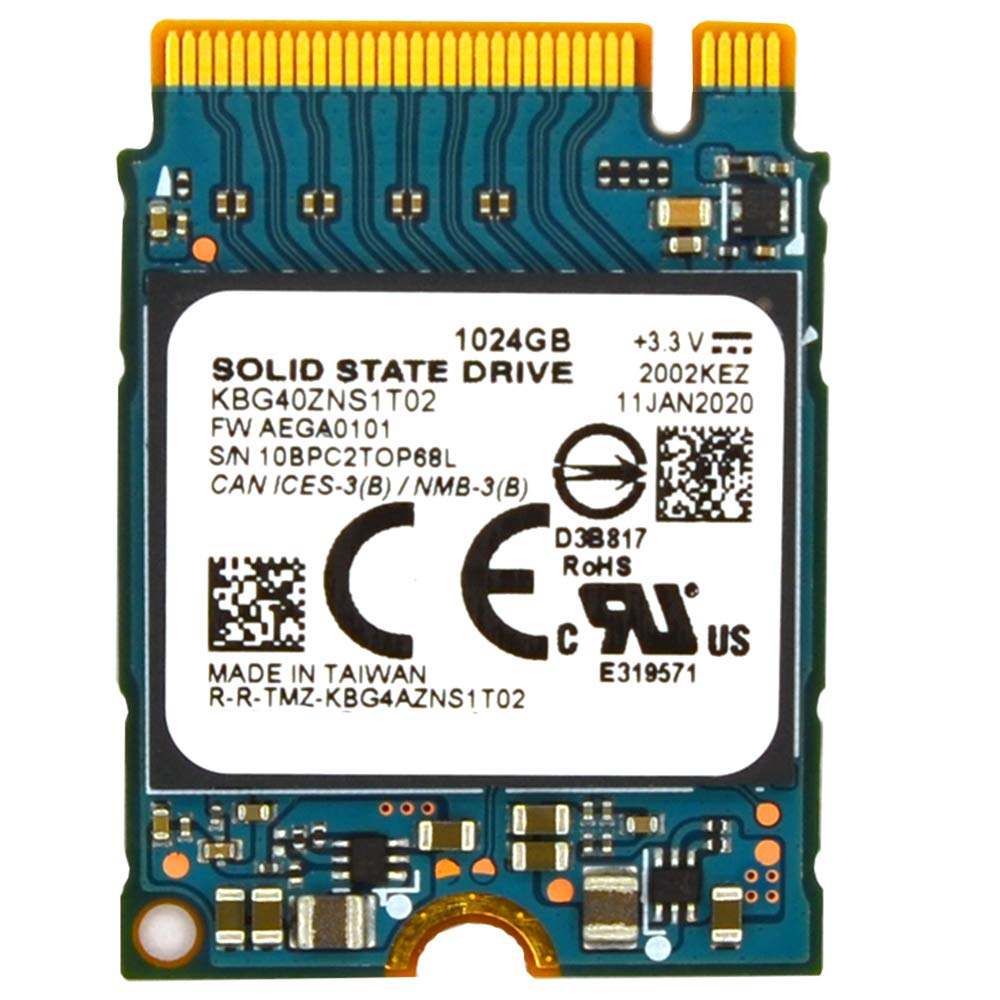ssd2230: (80, 11, 833, 987)
